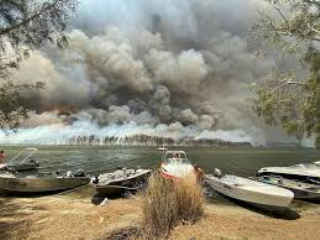smoke: (12, 15, 293, 146)
